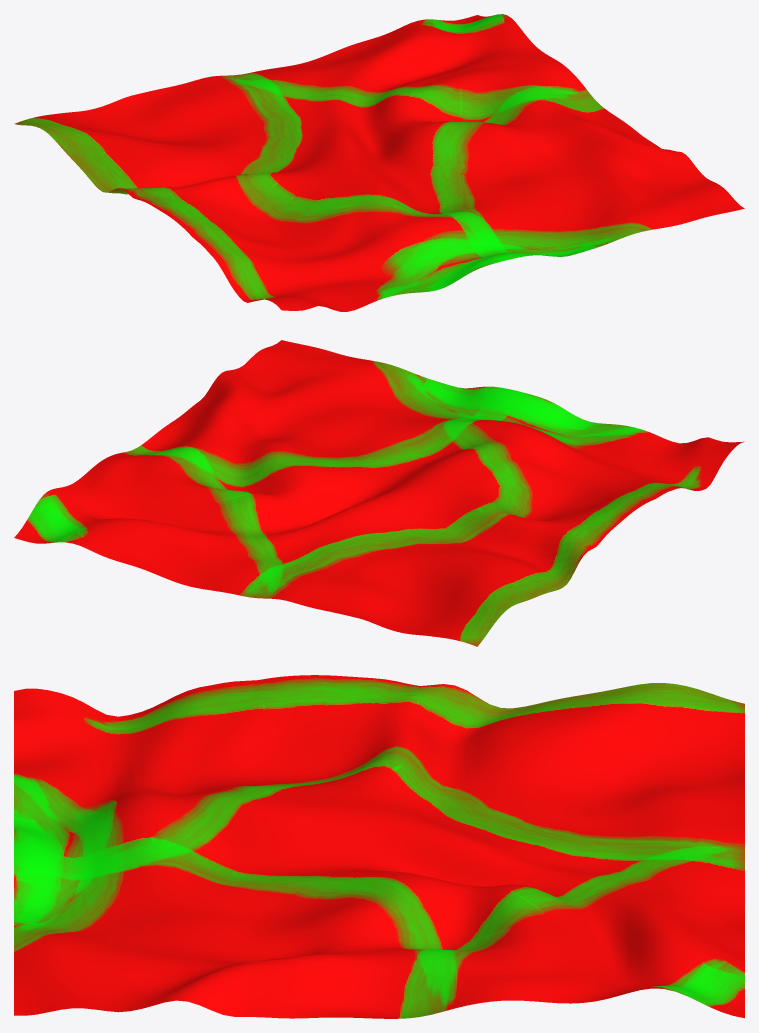
Rendered from maptest.obj.
The picture shows the model from 3 angles, top to bottom: view 1: azimuth 30°, elevation 25°; view 2: azimuth 150°, elevation 25°; view 3: azimuth 270°, elevation 25°; orthographic projection. The views are drawn at different scales.
Parts seen in each view (by area): view 1: Landscape; view 2: Landscape; view 3: Landscape.
Boxes of the visible parts, <box> form: Landscape: <box>14,14,744,311</box>; Landscape: <box>14,340,744,646</box>; Landscape: <box>14,675,744,1018</box>.
Bounding box in the file's own units: 500 × 34.54 × 500.
1 material, 1 textured.
